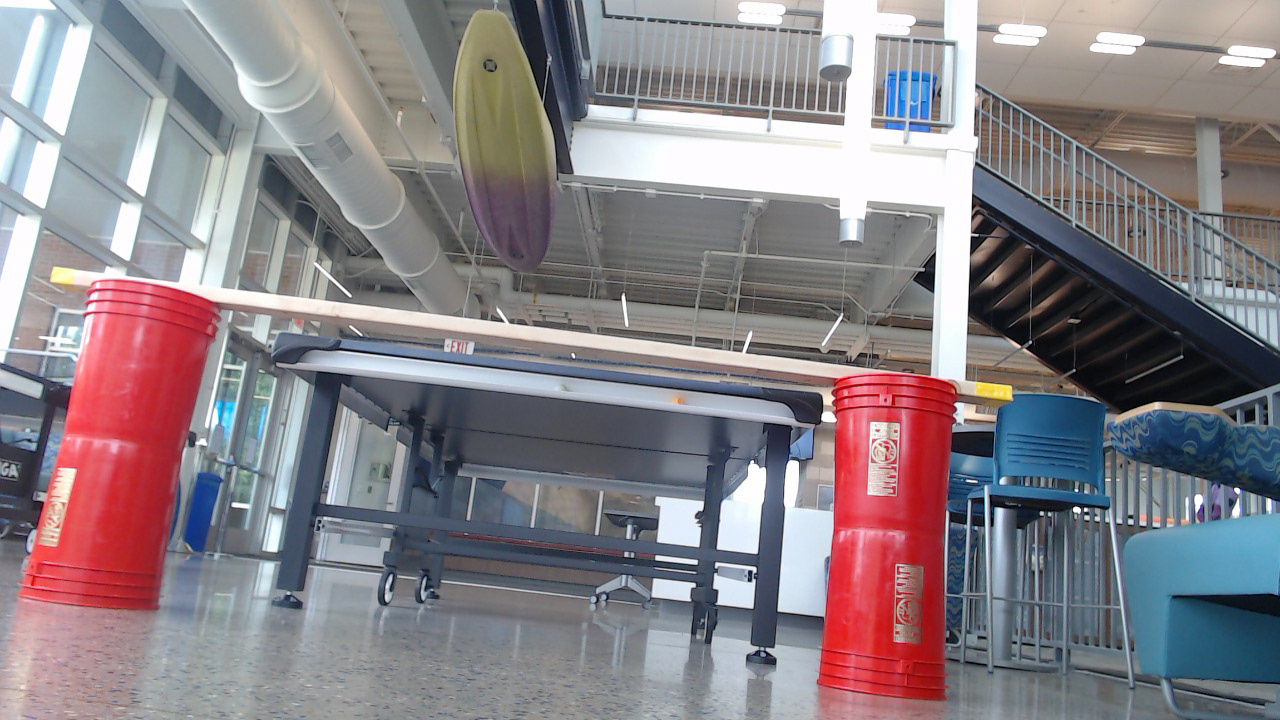blue_bucket: (21, 275, 965, 710)
